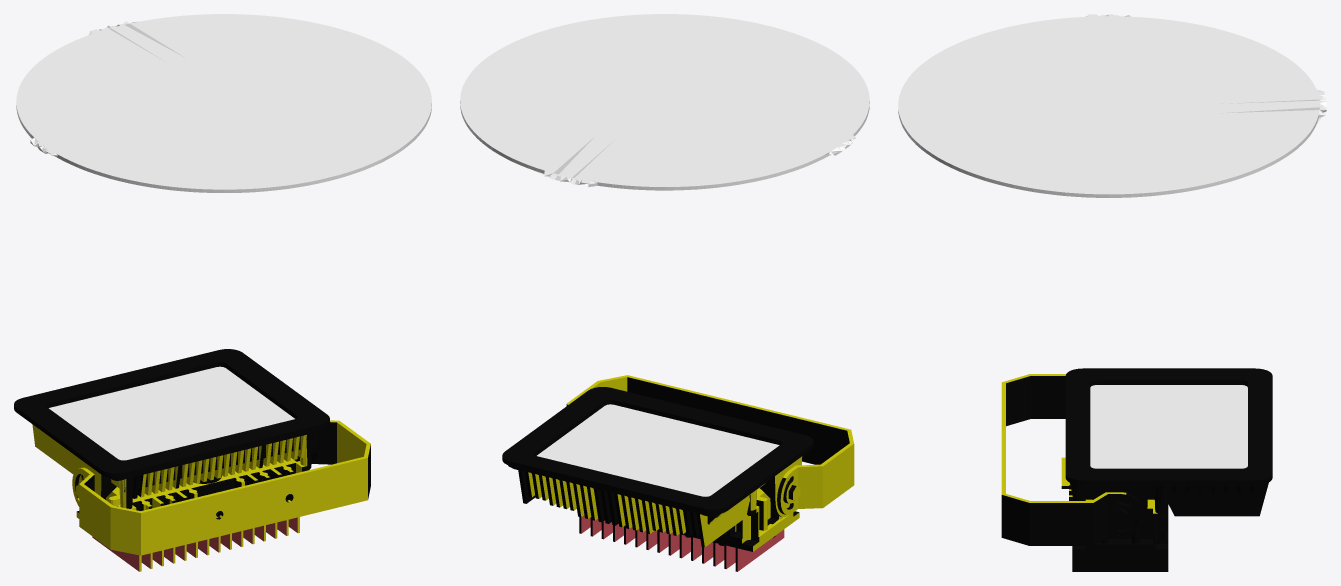
File: flood.glb
3 renders of one model, left to right at view 1: azimuth 30°, elevation 25°; view 2: azimuth 150°, elevation 25°; view 3: azimuth 270°, elevation 25°, orthographic. The views are drawn at different scales.
Size of the model in its own units: 0.0264 by 0.0299 by 0.0265.
